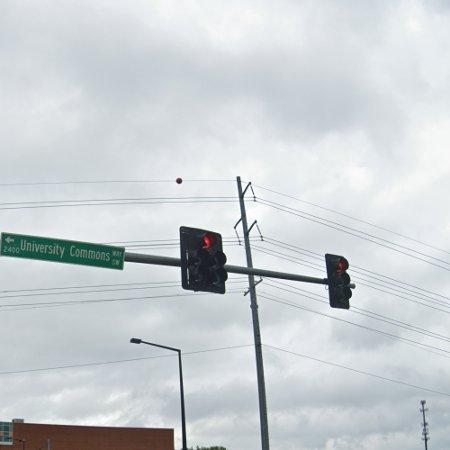traffic lights: (178, 225, 229, 296), (324, 252, 354, 312)
